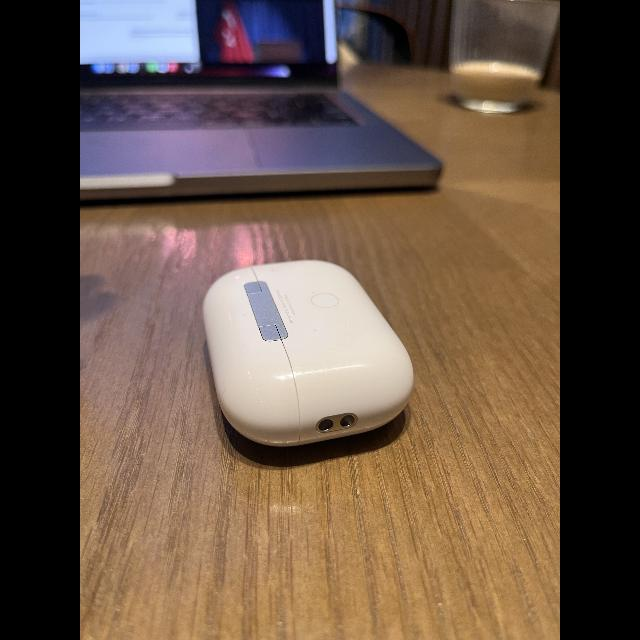AirPods Pro: (198, 254, 420, 473)
